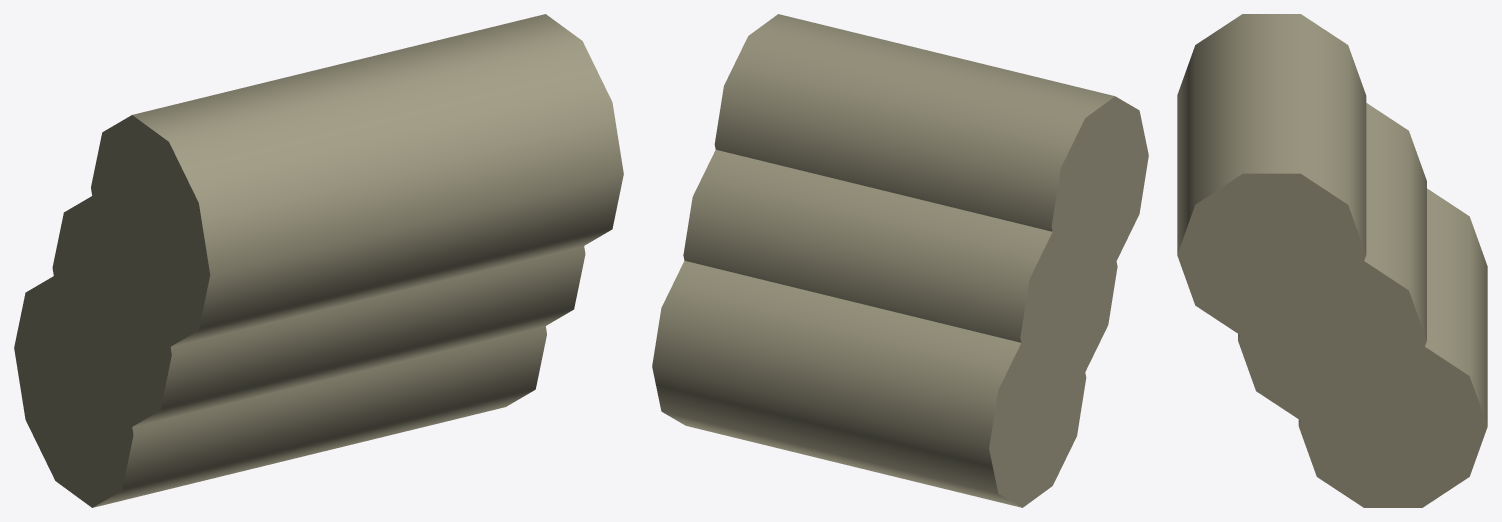
The model's file is fiber-loot.glb.
3 views of the same model, side by side, from view 1: azimuth 30°, elevation 25°; view 2: azimuth 150°, elevation 25°; view 3: azimuth 270°, elevation 25° (orthographic). The views are drawn at different scales.
Bounding box in the file's own units: 0.28 × 0.2731 × 0.23.
